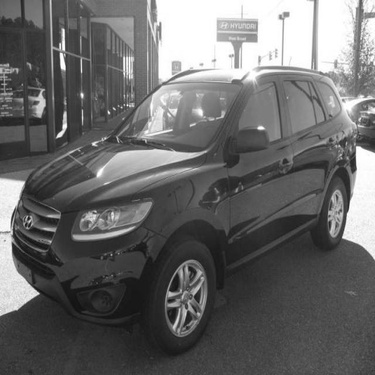car: (1, 50, 361, 360), (136, 84, 211, 130), (1, 90, 57, 124), (337, 89, 372, 138), (353, 99, 372, 145)
